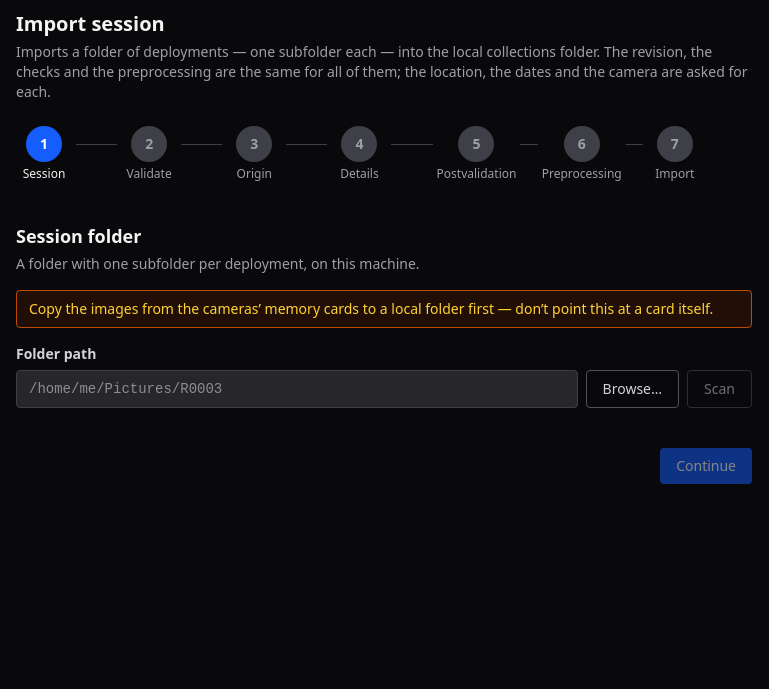
Test: ImportSessionPage › lists the session’s subfolders, leaving out the ones with no images
Click the button "Browse…". click: [632, 389]
box: left=586, top=370, right=679, bottom=408
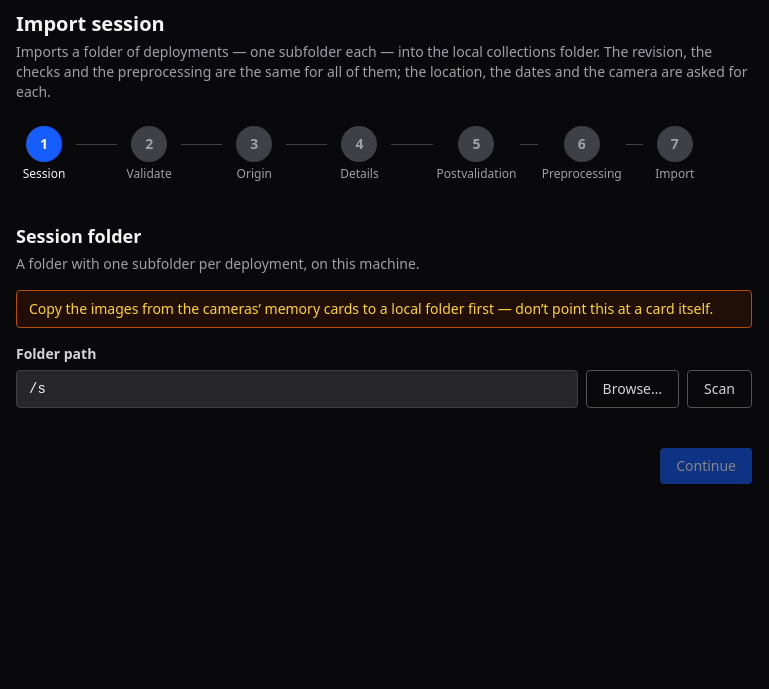
Expected: the field showing "/s" is shown, left=16, top=370, right=578, bottom=408
Click the button "Scan". click: [720, 389]
box: left=687, top=370, right=752, bottom=408
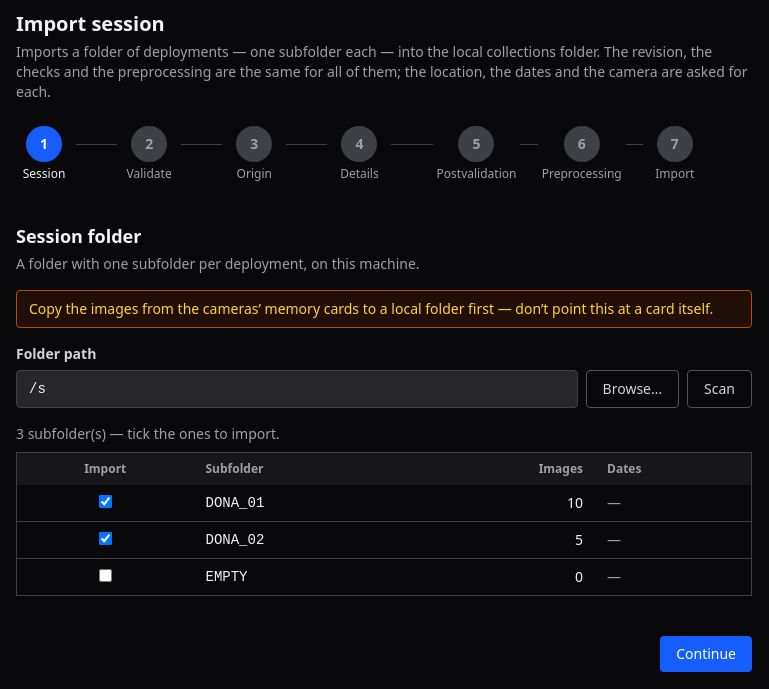
Expected: the checkbox named "DONA_01" is checked, left=99, top=495, right=112, bottom=508
Expected: the checkbox named "DONA_02" is checked, left=99, top=532, right=112, bottom=545
Expected: the checkbox named "EMPTY" is not checked, left=99, top=569, right=112, bottom=582
